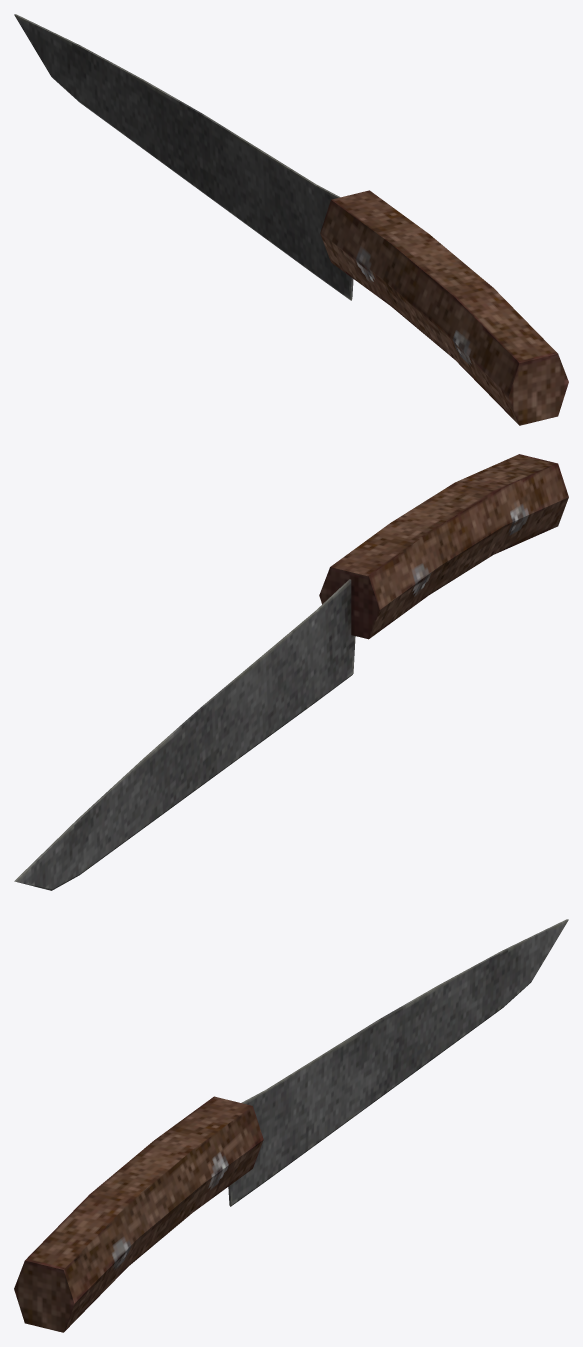
File: knife-1.glb
The picture shows the model from 3 angles, top to bottom: view 1: azimuth 30°, elevation 25°; view 2: azimuth 150°, elevation 25°; view 3: azimuth 330°, elevation 25°; orthographic projection.
Parts seen in each view (by area): view 1: Knife_1; view 2: Knife_1; view 3: Knife_1.
Part boxes in pixels (x1,y1,x2,y2): Knife_1: (14, 14, 568, 425); Knife_1: (14, 454, 568, 890); Knife_1: (14, 919, 568, 1332).
Bounding box in the file's own units: 0.2839 × 0.4712 × 4.27.
1 material, 1 textured.
